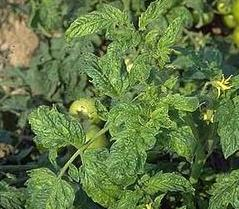Tomato leaf yellow virus: (105, 114, 156, 185), (24, 102, 86, 154), (153, 105, 205, 164), (16, 165, 76, 209), (136, 165, 197, 203), (60, 9, 124, 43), (210, 87, 239, 162), (207, 168, 239, 209)
